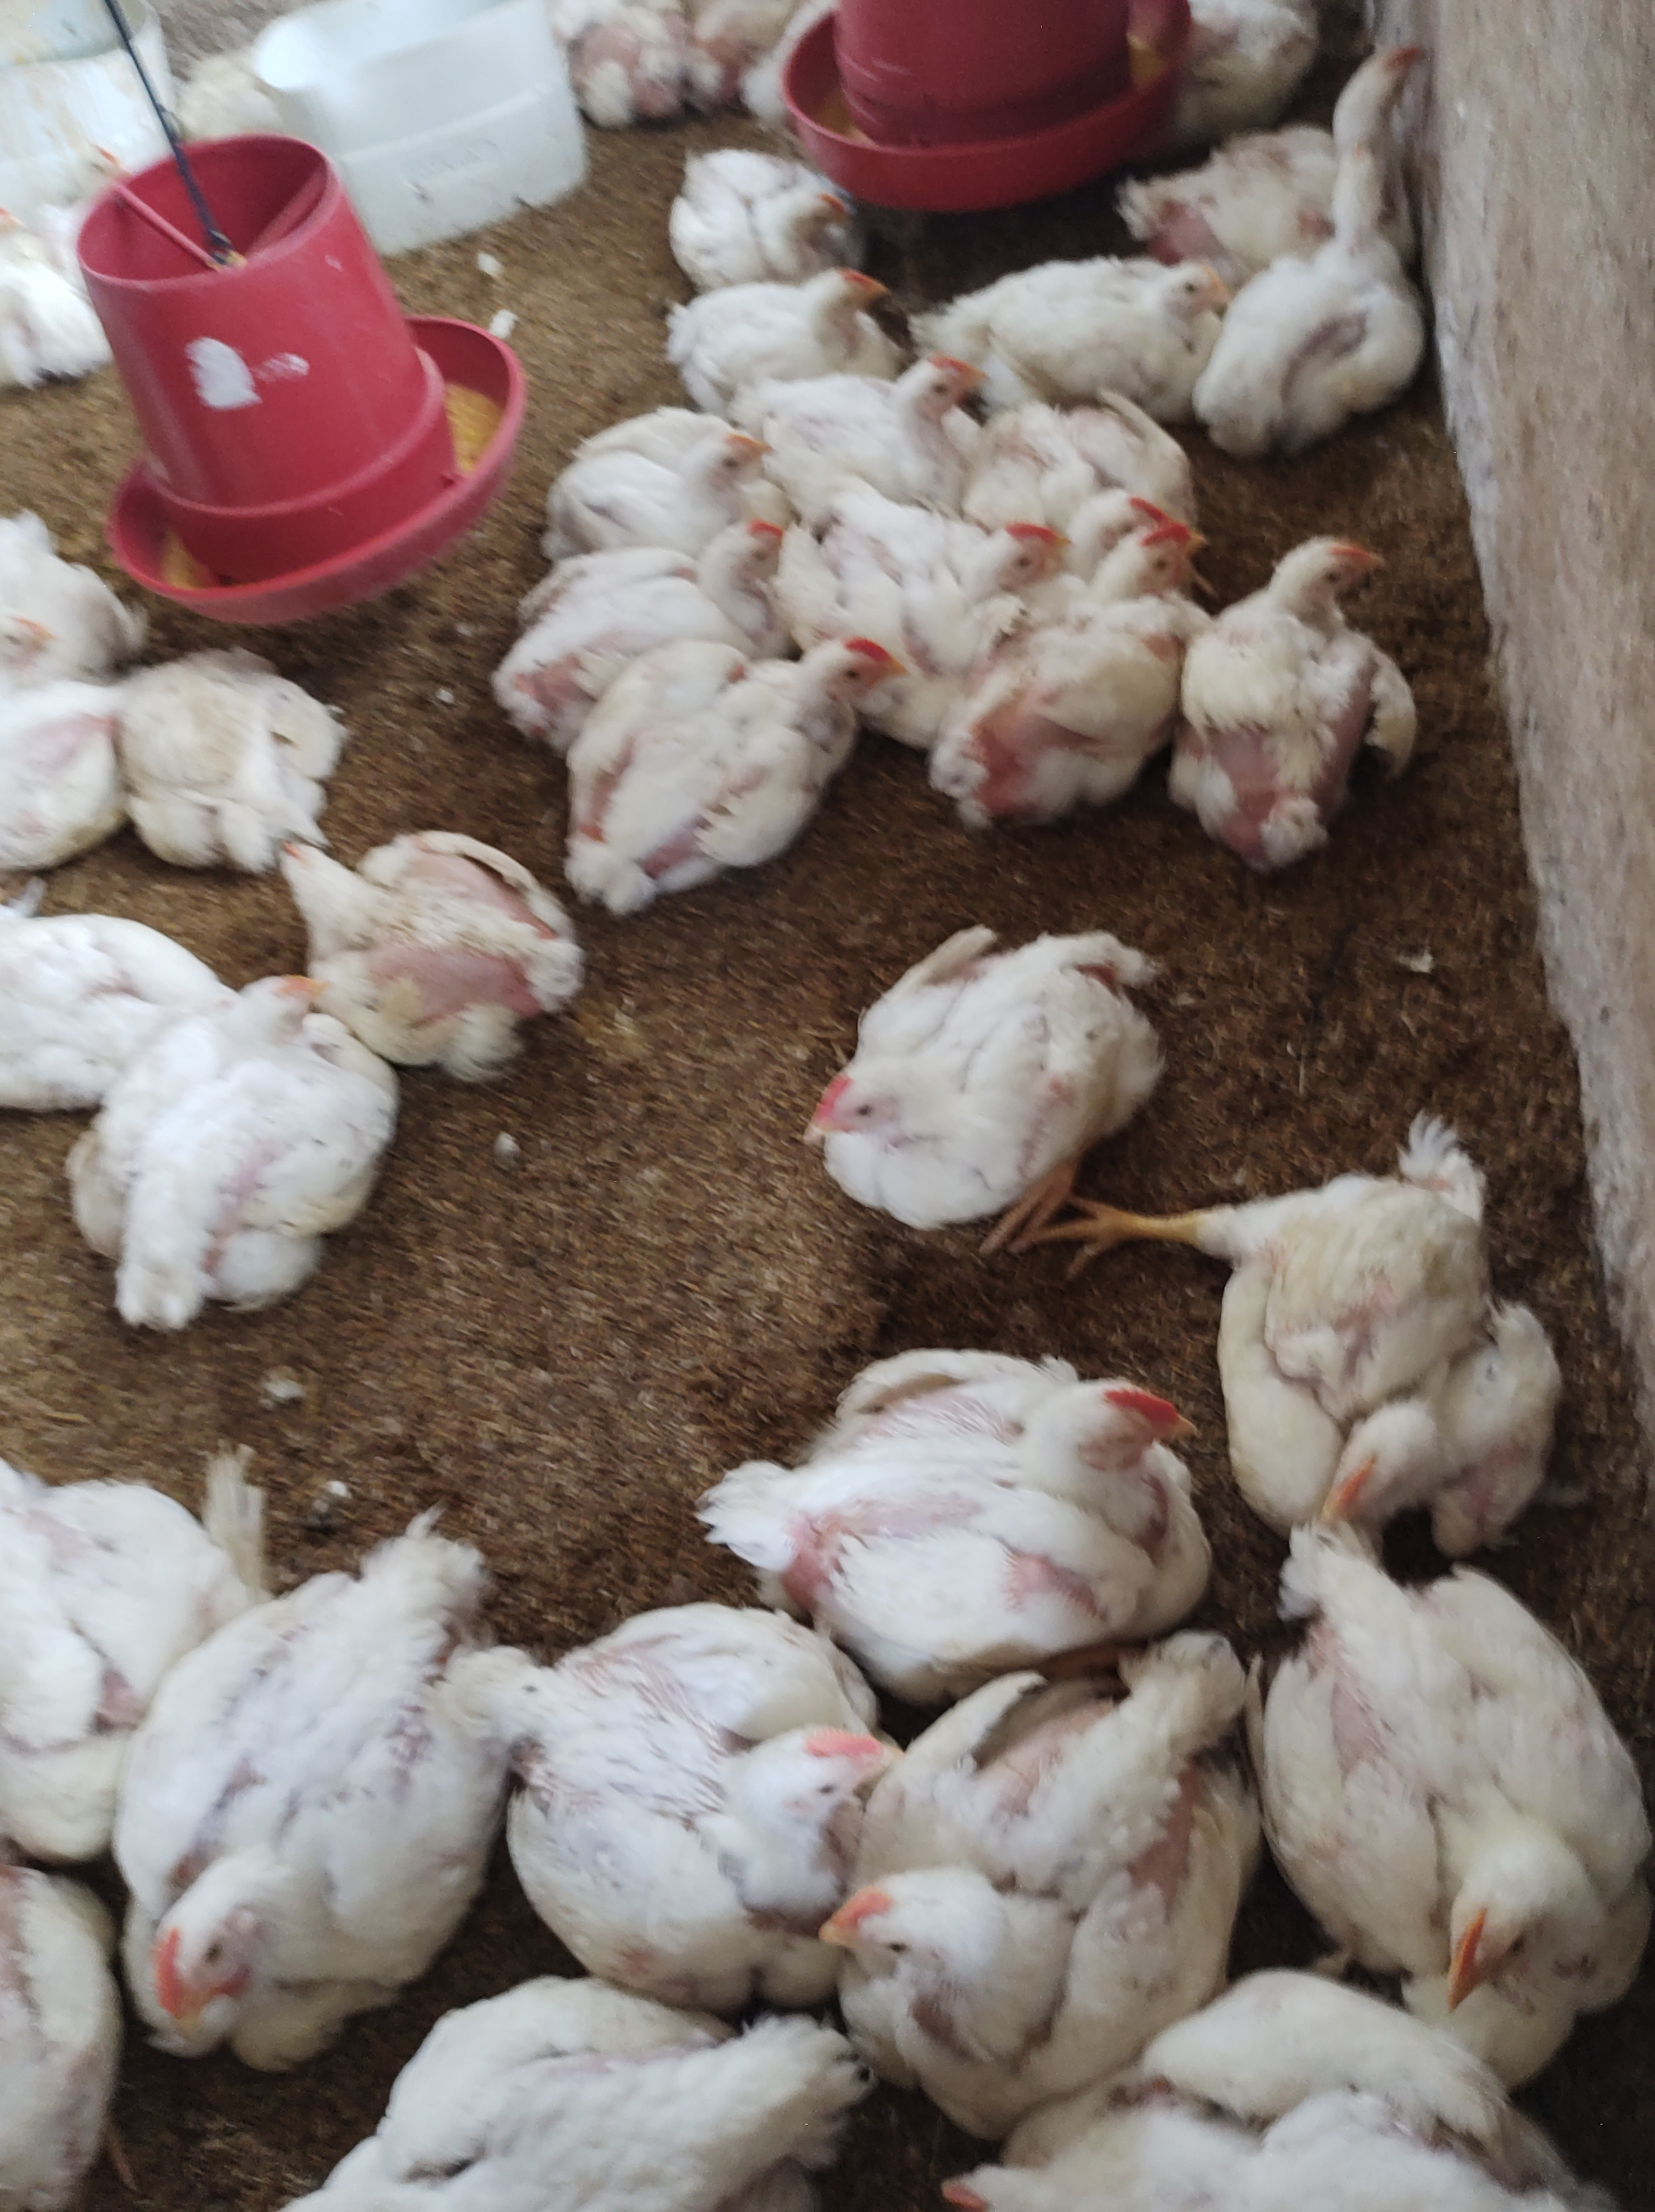Pollos: (827, 1596, 1234, 2101), (1240, 1556, 1655, 2042), (134, 1542, 497, 2052), (508, 1572, 909, 1998), (716, 1339, 1226, 1635), (954, 1979, 1599, 2212), (1206, 1144, 1565, 1537), (808, 911, 1172, 1261), (294, 1993, 847, 2212), (71, 976, 389, 1334), (0, 1426, 259, 1862), (562, 633, 892, 908), (278, 817, 603, 1080), (949, 522, 1243, 810), (1186, 520, 1399, 897), (1205, 165, 1422, 471), (0, 901, 223, 1113), (937, 240, 1234, 398), (511, 515, 794, 676), (137, 656, 339, 880), (0, 1873, 129, 2212), (0, 177, 143, 379), (657, 130, 862, 268), (695, 240, 904, 374), (1311, 23, 1469, 191), (2, 503, 144, 687), (1149, 0, 1323, 150), (568, 407, 793, 515), (880, 499, 1066, 621), (556, 0, 708, 110), (867, 330, 989, 450), (1052, 456, 1163, 551)
